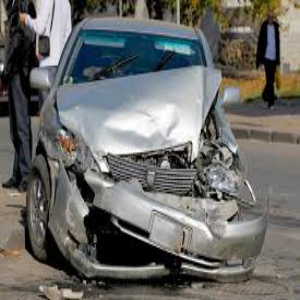bonnet: (68, 62, 225, 161)
bumper: (47, 170, 274, 283)
